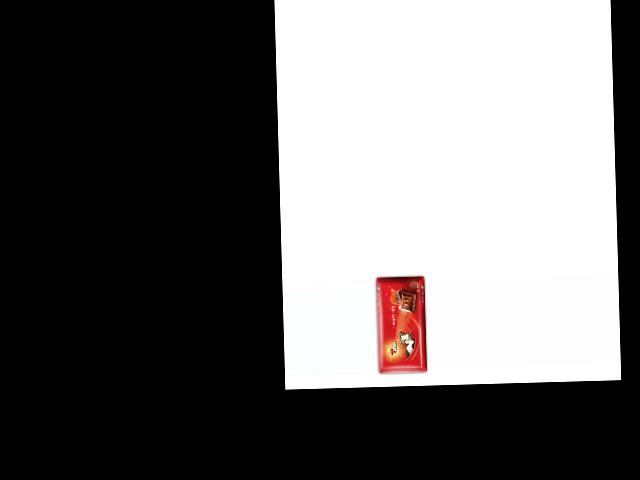chocolate: (375, 274, 430, 379)
